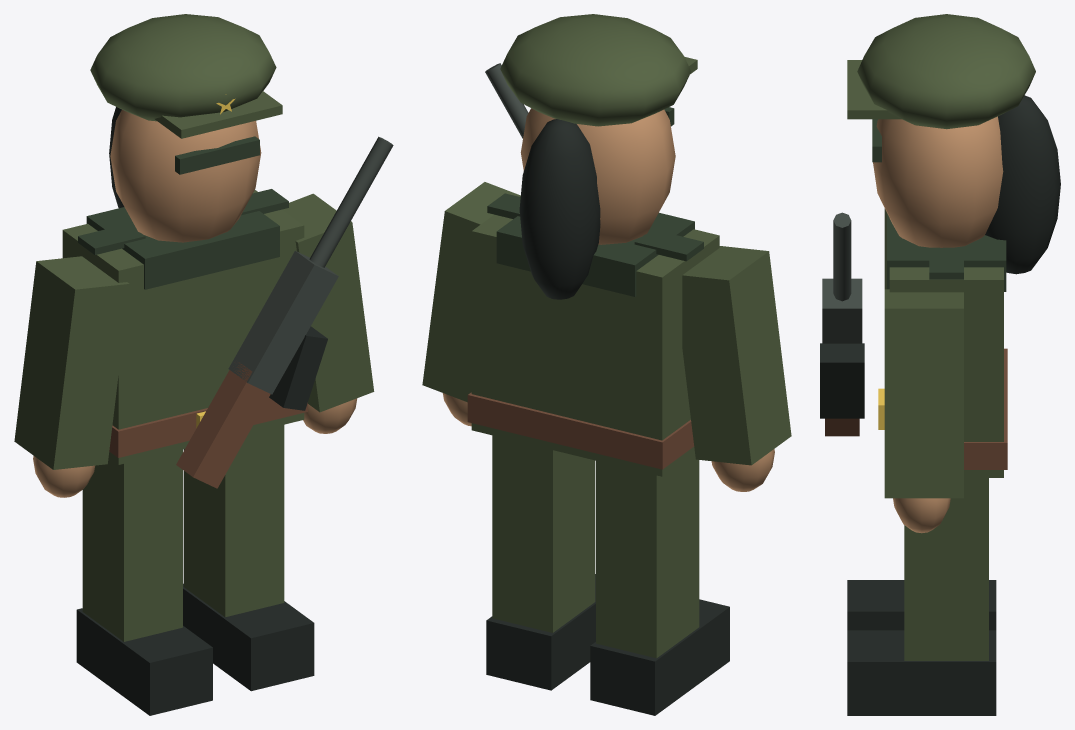
3 renders of one model, left to right at view 1: azimuth 30°, elevation 25°; view 2: azimuth 150°, elevation 25°; view 3: azimuth 270°, elevation 25°, orthographic. The views are drawn at different scales.
Parts seen in each view (by area): view 1: vietnam-D; view 2: vietnam-D; view 3: vietnam-D.
Boxes of the visible parts, x1,y1,x2,y2 form: vietnam-D: (14,14,393,715); vietnam-D: (422,14,791,715); vietnam-D: (820,14,1060,715).
Bounding box in the file's own units: 0.7608 × 1.43 × 0.485.
